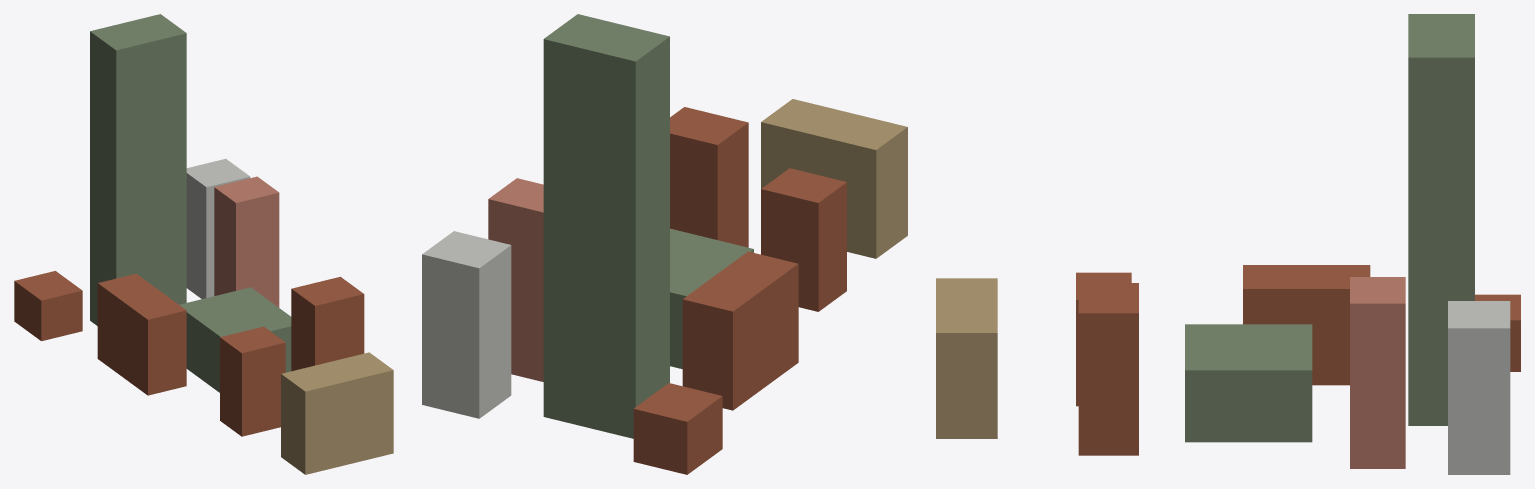
The model's file is synth-15-02.lod2.glb.
The picture shows the model from 3 angles, left to right: view 1: azimuth 30°, elevation 25°; view 2: azimuth 150°, elevation 25°; view 3: azimuth 270°, elevation 25°; orthographic projection. The views are drawn at different scales.
Visible parts, largest first — view 1: synth-15-02; view 2: synth-15-02; view 3: synth-15-02.
Boxes of the visible parts, x1,y1,x2,y2 form: synth-15-02: [14, 14, 393, 474]; synth-15-02: [422, 14, 907, 474]; synth-15-02: [936, 14, 1520, 474].
Bounding box in the file's own units: 44.19 × 58.92 × 84.88.
